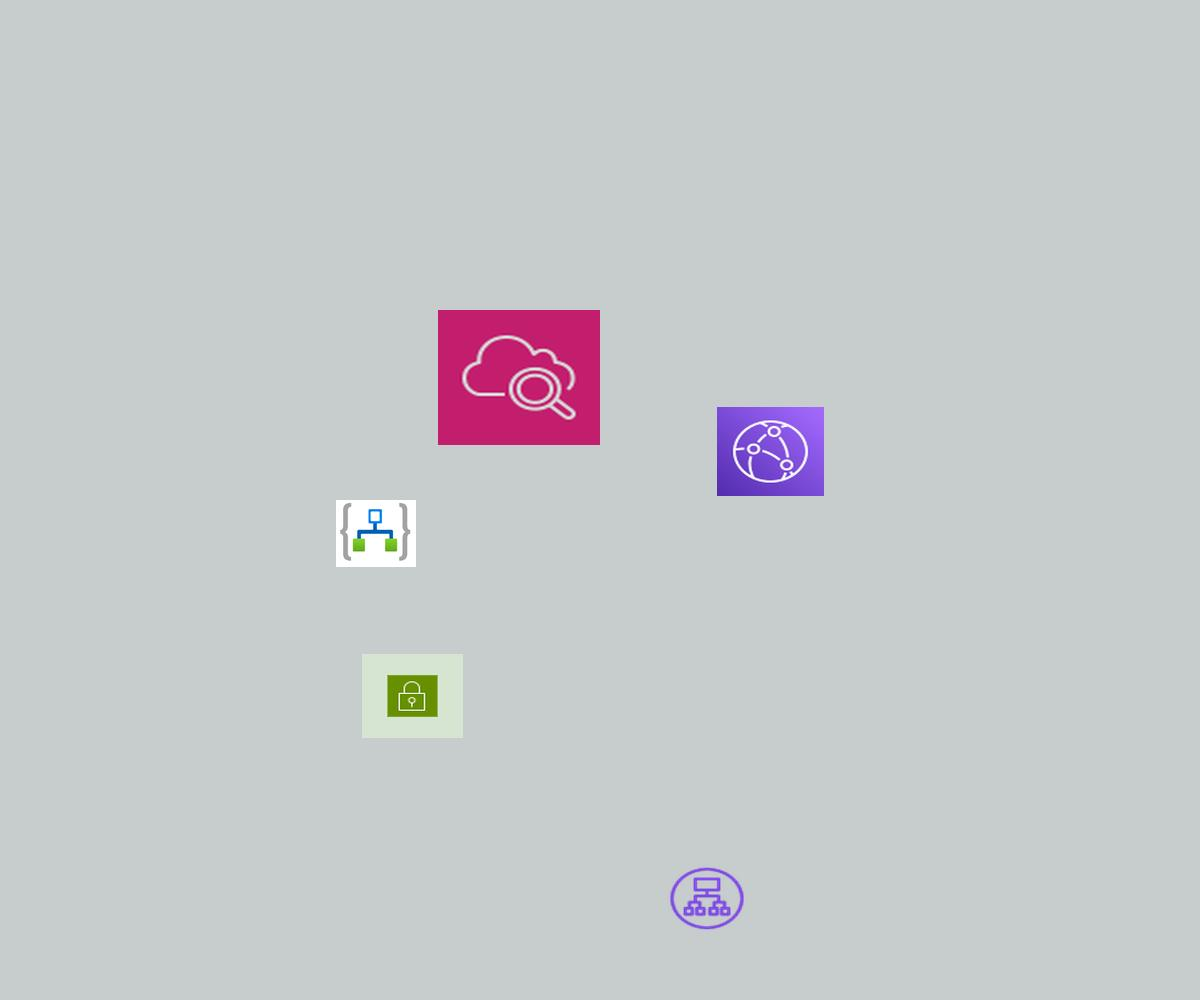AWS-CloudFront: (717, 407, 824, 496)
AWS-CloudWatch: (438, 310, 600, 445)
AWS-Public-subnet: (362, 654, 463, 738)
AWS-Res_Elastic-Load-Balancing_Application-Load-Balancer: (667, 865, 747, 932)
Azure_integration-204-Logic-Apps: (336, 500, 416, 567)
